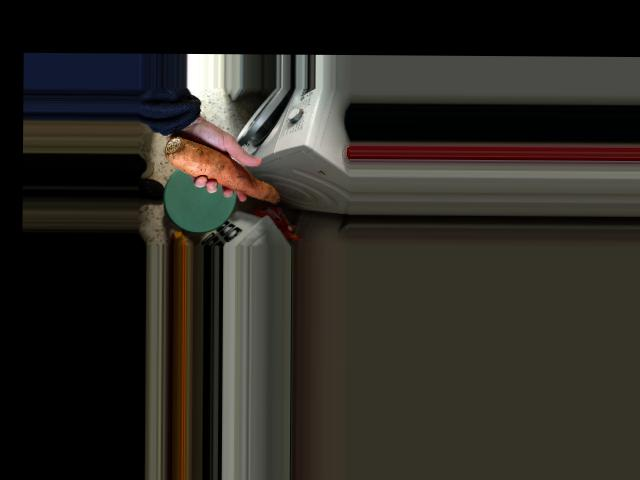sweet_potato: (162, 133, 289, 209)
